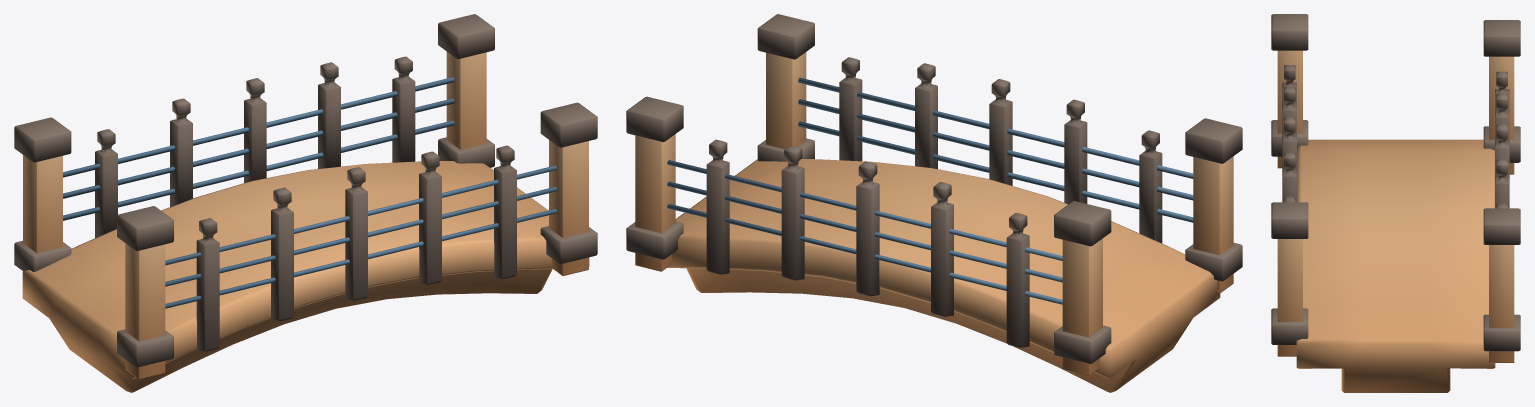
File: Bridge.fbx
The picture shows the model from 3 angles, left to right: view 1: azimuth 30°, elevation 25°; view 2: azimuth 150°, elevation 25°; view 3: azimuth 270°, elevation 25°; orthographic projection. The views are drawn at different scales.
Visible parts, largest first — view 1: Cube; view 2: Cube; view 3: Cube.
Boxes of the visible parts, x1,y1,x2,y2 form: Cube: [14, 14, 597, 392]; Cube: [626, 14, 1242, 392]; Cube: [1271, 14, 1520, 392].
Bounding box in the file's own units: 1997 × 810 × 994.
